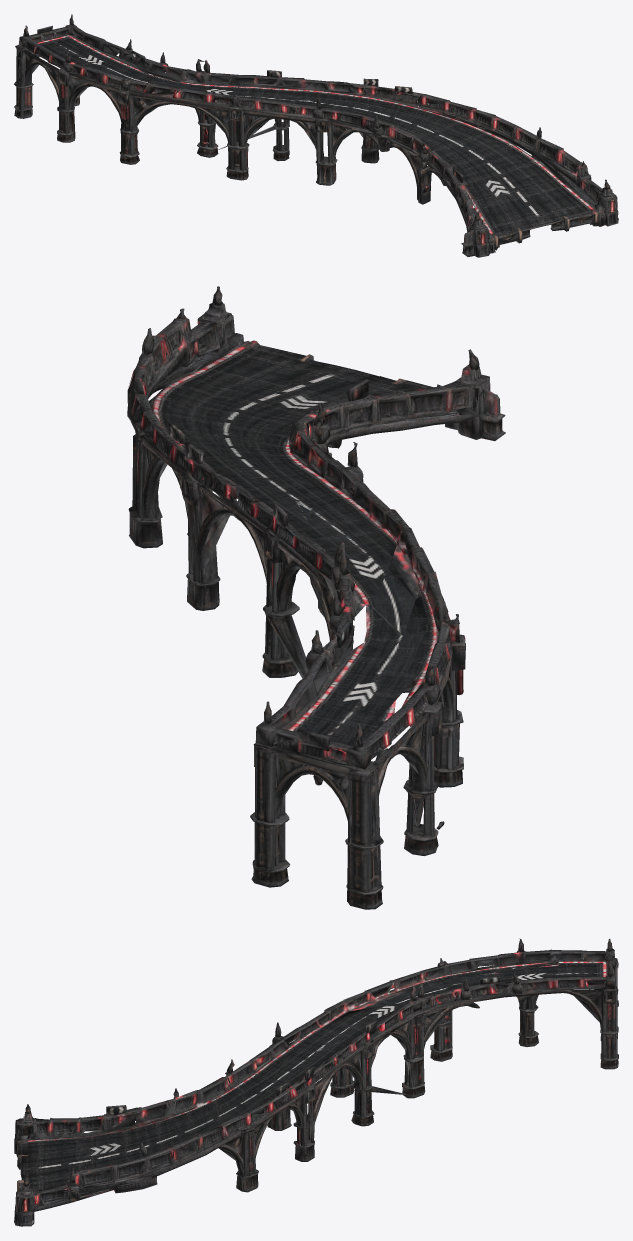
Rendered from Meshy_AI_Gothic_Highway_Ramp_L_1030140431_texture.glb.
3 renders of one model, top to bottom at view 1: azimuth 30°, elevation 25°; view 2: azimuth 150°, elevation 25°; view 3: azimuth 270°, elevation 25°, orthographic. The views are drawn at different scales.
Bounding box in the file's own units: 0.7192 × 0.187 × 0.9526.
Materials: 1 (1 with a texture image).
